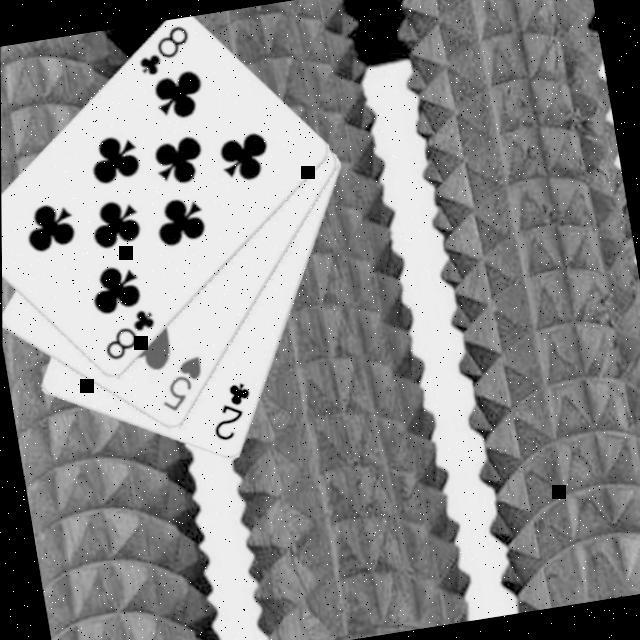2C: (202, 378, 259, 446)
5H: (151, 352, 210, 417)
8C: (94, 304, 162, 366), (130, 20, 197, 80)
